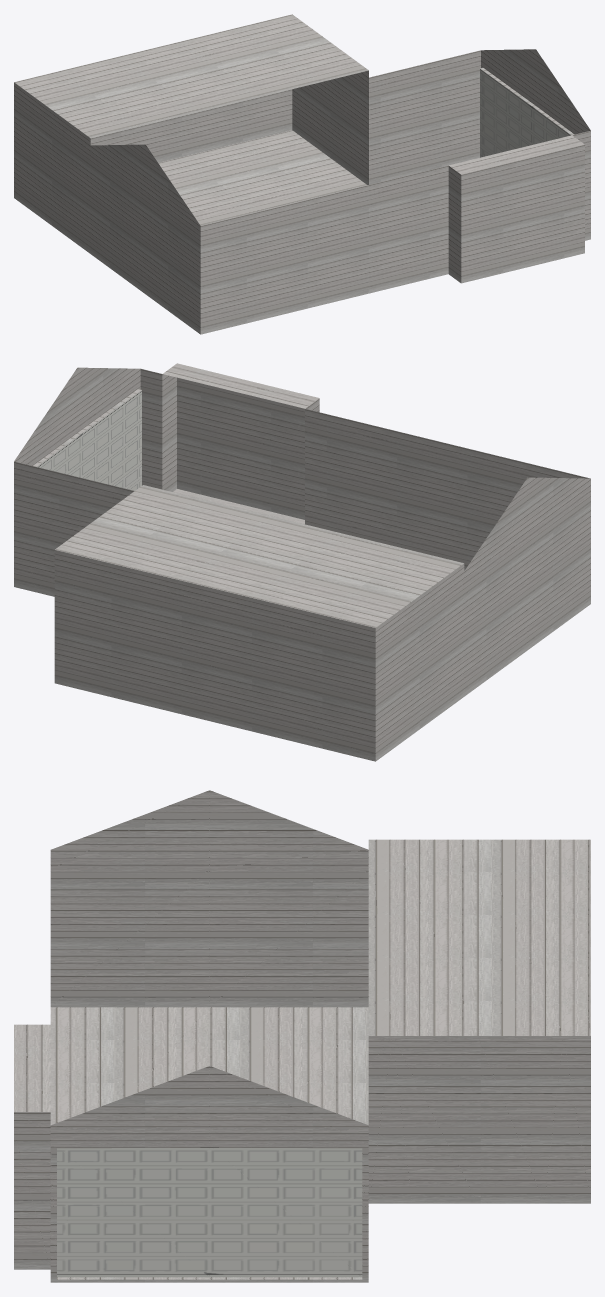
Rendered from House Model.fbx.
The picture shows the model from 3 angles, top to bottom: view 1: azimuth 30°, elevation 25°; view 2: azimuth 150°, elevation 25°; view 3: azimuth 270°, elevation 25°; orthographic projection. The views are drawn at different scales.
Parts seen in each view (by area): view 1: Main Building; view 2: Main Building; view 3: Main Building.
Boxes of the visible parts, bbox=[...] form: Main Building: bbox=[14, 14, 590, 334]; Main Building: bbox=[14, 363, 590, 761]; Main Building: bbox=[14, 790, 590, 1282].
Bounding box in the file's own units: 609 × 539 × 224.
